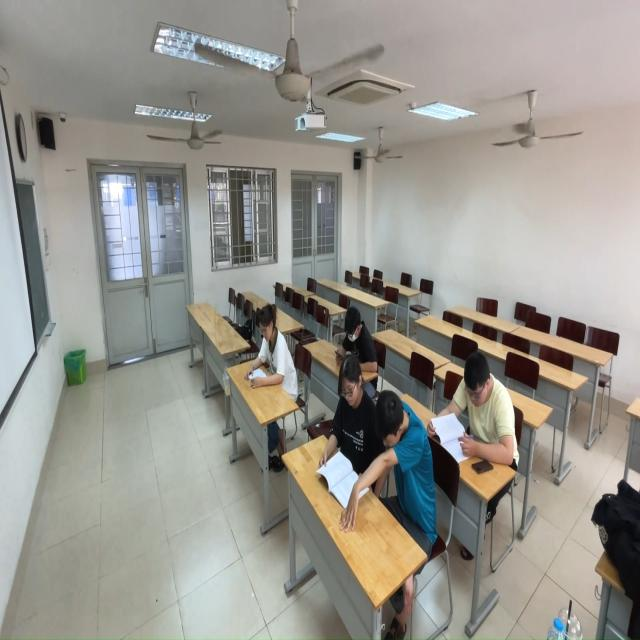read: (369, 386, 441, 543), (440, 349, 520, 473), (311, 353, 373, 512), (240, 301, 301, 404), (329, 302, 380, 371)
